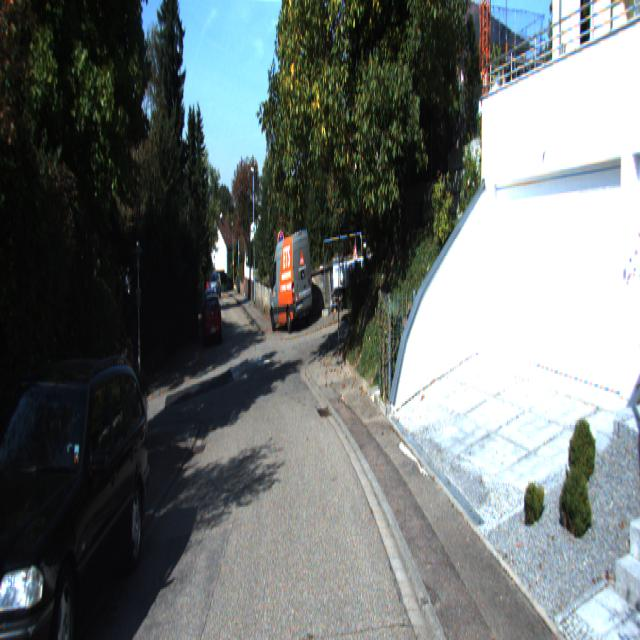Car: (0, 355, 160, 638), (269, 232, 314, 336), (200, 294, 223, 351)
